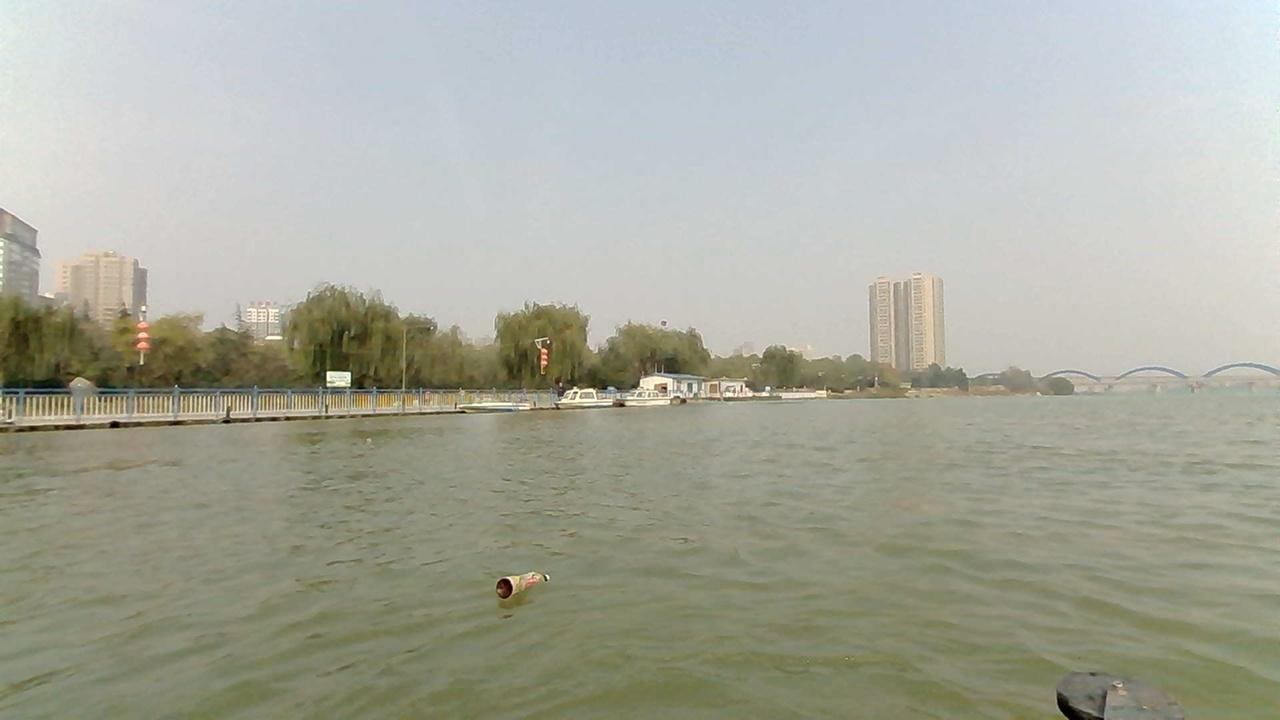bottle: (494, 570, 550, 599), (364, 435, 372, 442)
